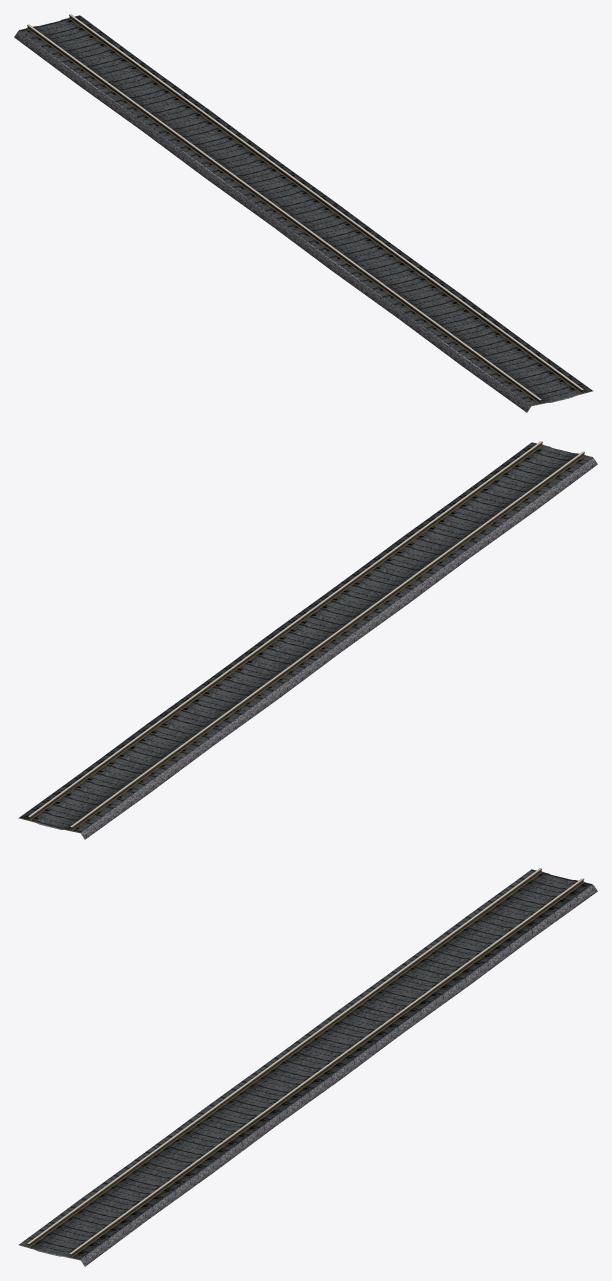
The model's file is 1RAIL_KYO.glb.
The picture shows the model from 3 angles, top to bottom: view 1: azimuth 30°, elevation 25°; view 2: azimuth 150°, elevation 25°; view 3: azimuth 330°, elevation 25°; orthographic projection.
Parts seen in each view (by area): view 1: Rail; view 2: Rail; view 3: Rail.
Part boxes in pixels (<box>): Rail: <box>14,14,593,412</box>; Rail: <box>18,441,597,839</box>; Rail: <box>19,868,597,1266</box>.
Bounding box in the file's own units: 8.09 × 1.01 × 100.
Materials: 3 (2 with a texture image).
